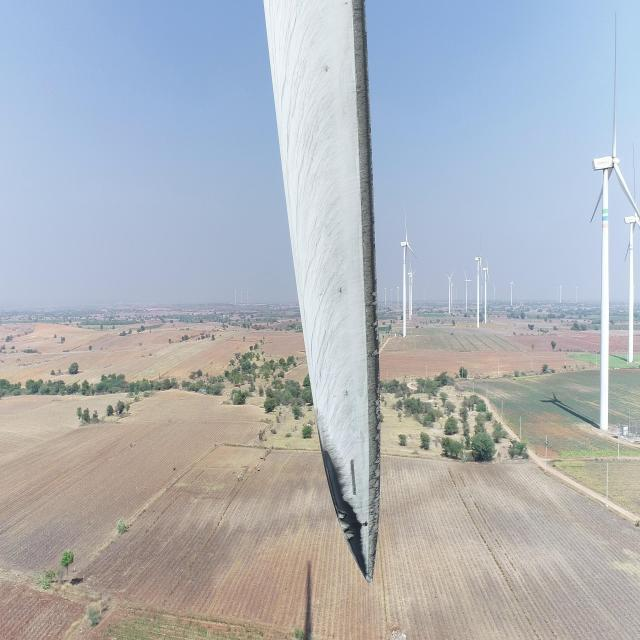Dirt: (257, 0, 378, 577)
Oil LEAKAGE: (320, 448, 371, 577)
Pin Hole: (335, 282, 348, 302), (341, 388, 354, 401), (322, 62, 334, 74), (361, 518, 371, 531)
